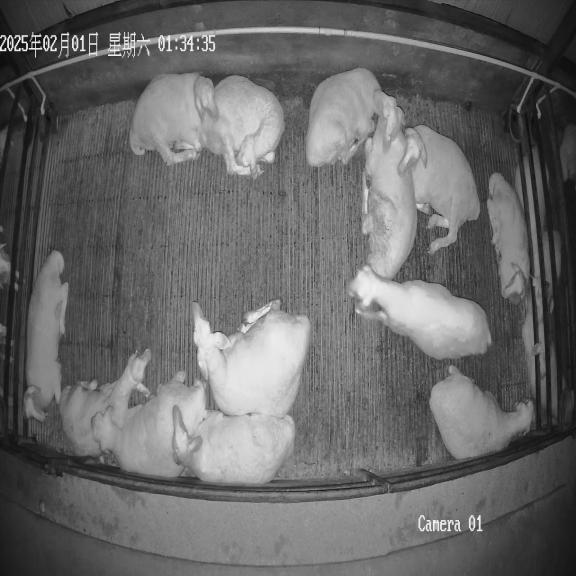lying: (193, 300, 310, 417), (91, 371, 207, 478), (400, 125, 480, 254), (59, 349, 151, 457), (305, 68, 405, 167), (429, 366, 534, 459), (172, 410, 295, 484), (361, 116, 416, 280), (202, 75, 285, 179), (128, 73, 217, 165), (23, 250, 69, 422), (486, 172, 530, 303)
stand: (347, 264, 491, 359)
